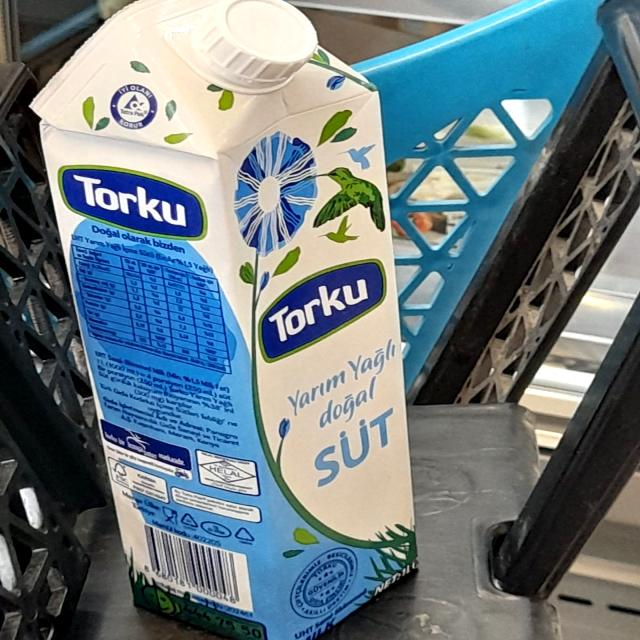milk: (45, 7, 423, 640)
